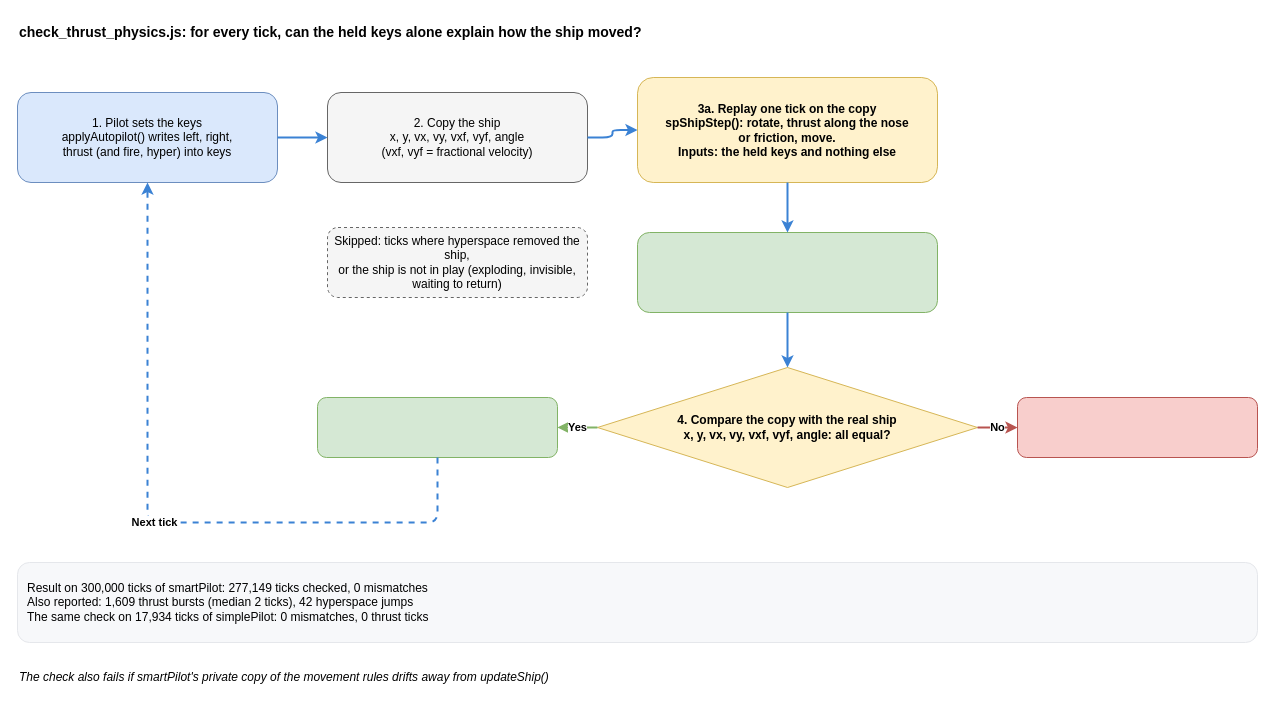
Image size: 1275x709. Some labels were removed from this diagram. Here are the shapes that lost their labels. From the top down, the box of each, then its label:
(636, 232, 938, 312): 3b. Run the real game update() moves the real ship
(316, 396, 558, 458): Equal: the keys explain the motion. Count the tick as checked.
(1016, 396, 1258, 458): Different: a change the keys do not explain. Record it as a mismatch.
